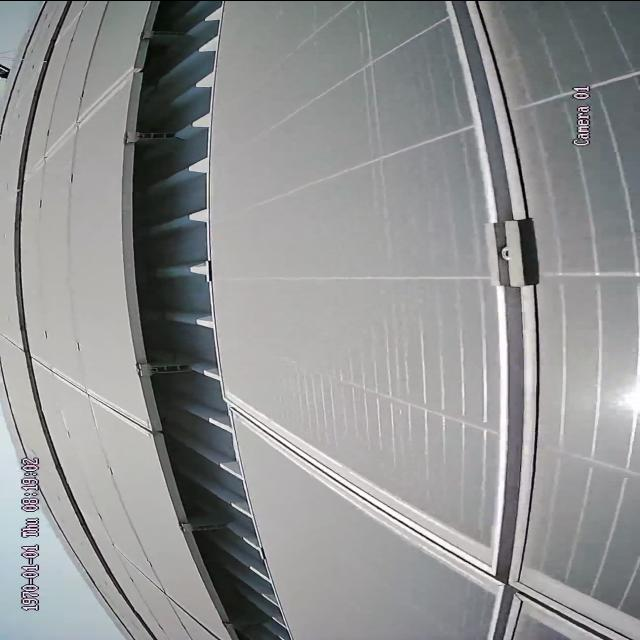interior panel: (248, 1, 634, 640), (28, 67, 123, 174), (42, 359, 139, 430)
outher panel: (117, 2, 291, 639)
